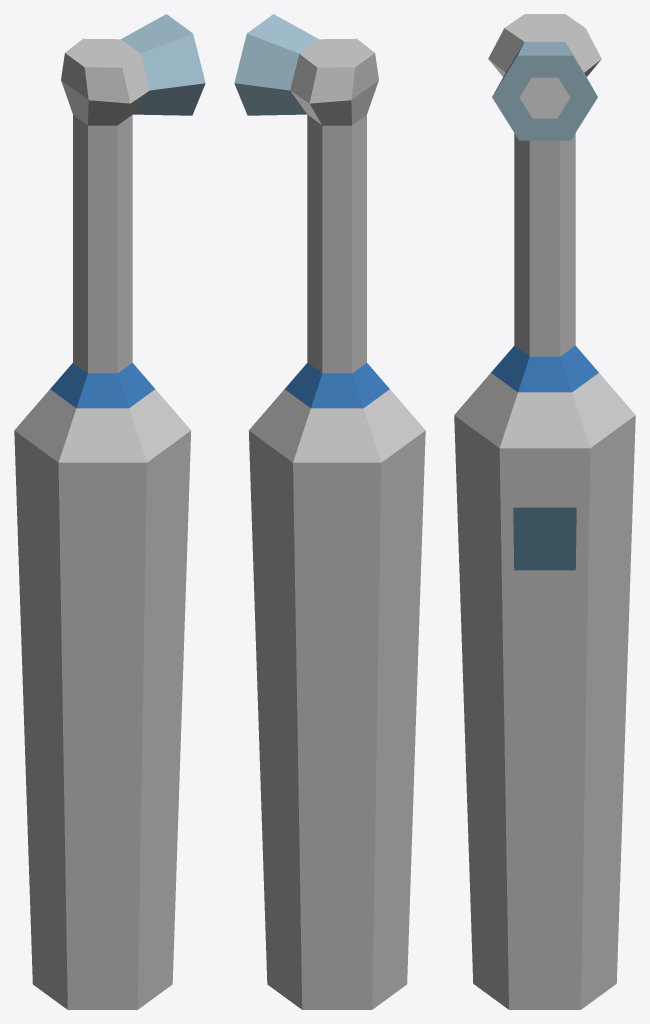
Rendered from SM_Item_Toothbrush_02.fbx.
The picture shows the model from 3 angles, left to right: view 1: azimuth 30°, elevation 25°; view 2: azimuth 150°, elevation 25°; view 3: azimuth 270°, elevation 25°; orthographic projection. The views are drawn at different scales.
Visible parts, largest first — view 1: SM_Item_Toothbrush_02; view 2: SM_Item_Toothbrush_02; view 3: SM_Item_Toothbrush_02.
Boxes of the visible parts, x1,y1,x2,y2 form: SM_Item_Toothbrush_02: [14, 14, 205, 1009]; SM_Item_Toothbrush_02: [234, 14, 425, 1009]; SM_Item_Toothbrush_02: [454, 14, 635, 1009].
Bounding box in the file's own units: 7.8 × 48.98 × 8.34.
